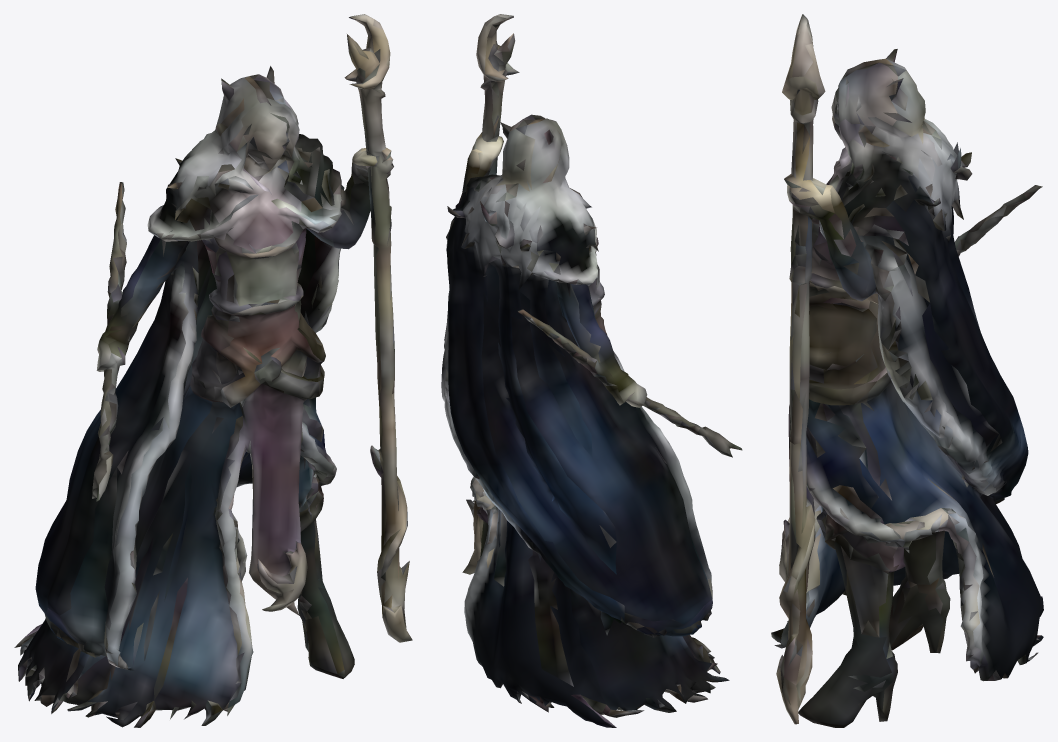
File: Aravashnial_final.glb
The picture shows the model from 3 angles, left to right: view 1: azimuth 30°, elevation 25°; view 2: azimuth 150°, elevation 25°; view 3: azimuth 270°, elevation 25°; orthographic projection. The views are drawn at different scales.
Visible parts, largest first — view 1: Mesh_0.001; view 2: Mesh_0.001; view 3: Mesh_0.001.
Boxes of the visible parts, x1,y1,x2,y2 form: Mesh_0.001: (14,14,412,727); Mesh_0.001: (441,14,742,727); Mesh_0.001: (771,14,1043,727).
Bounding box in the file's own units: 0.9383 × 1.8 × 0.6301.
1 material, 1 textured.
